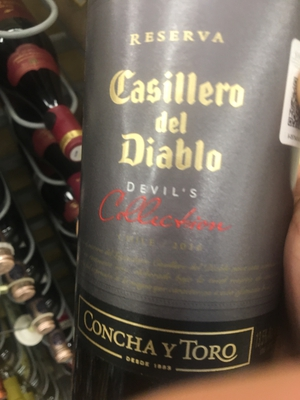casillero del diablo devils collection rojo: (83, 3, 293, 400)
